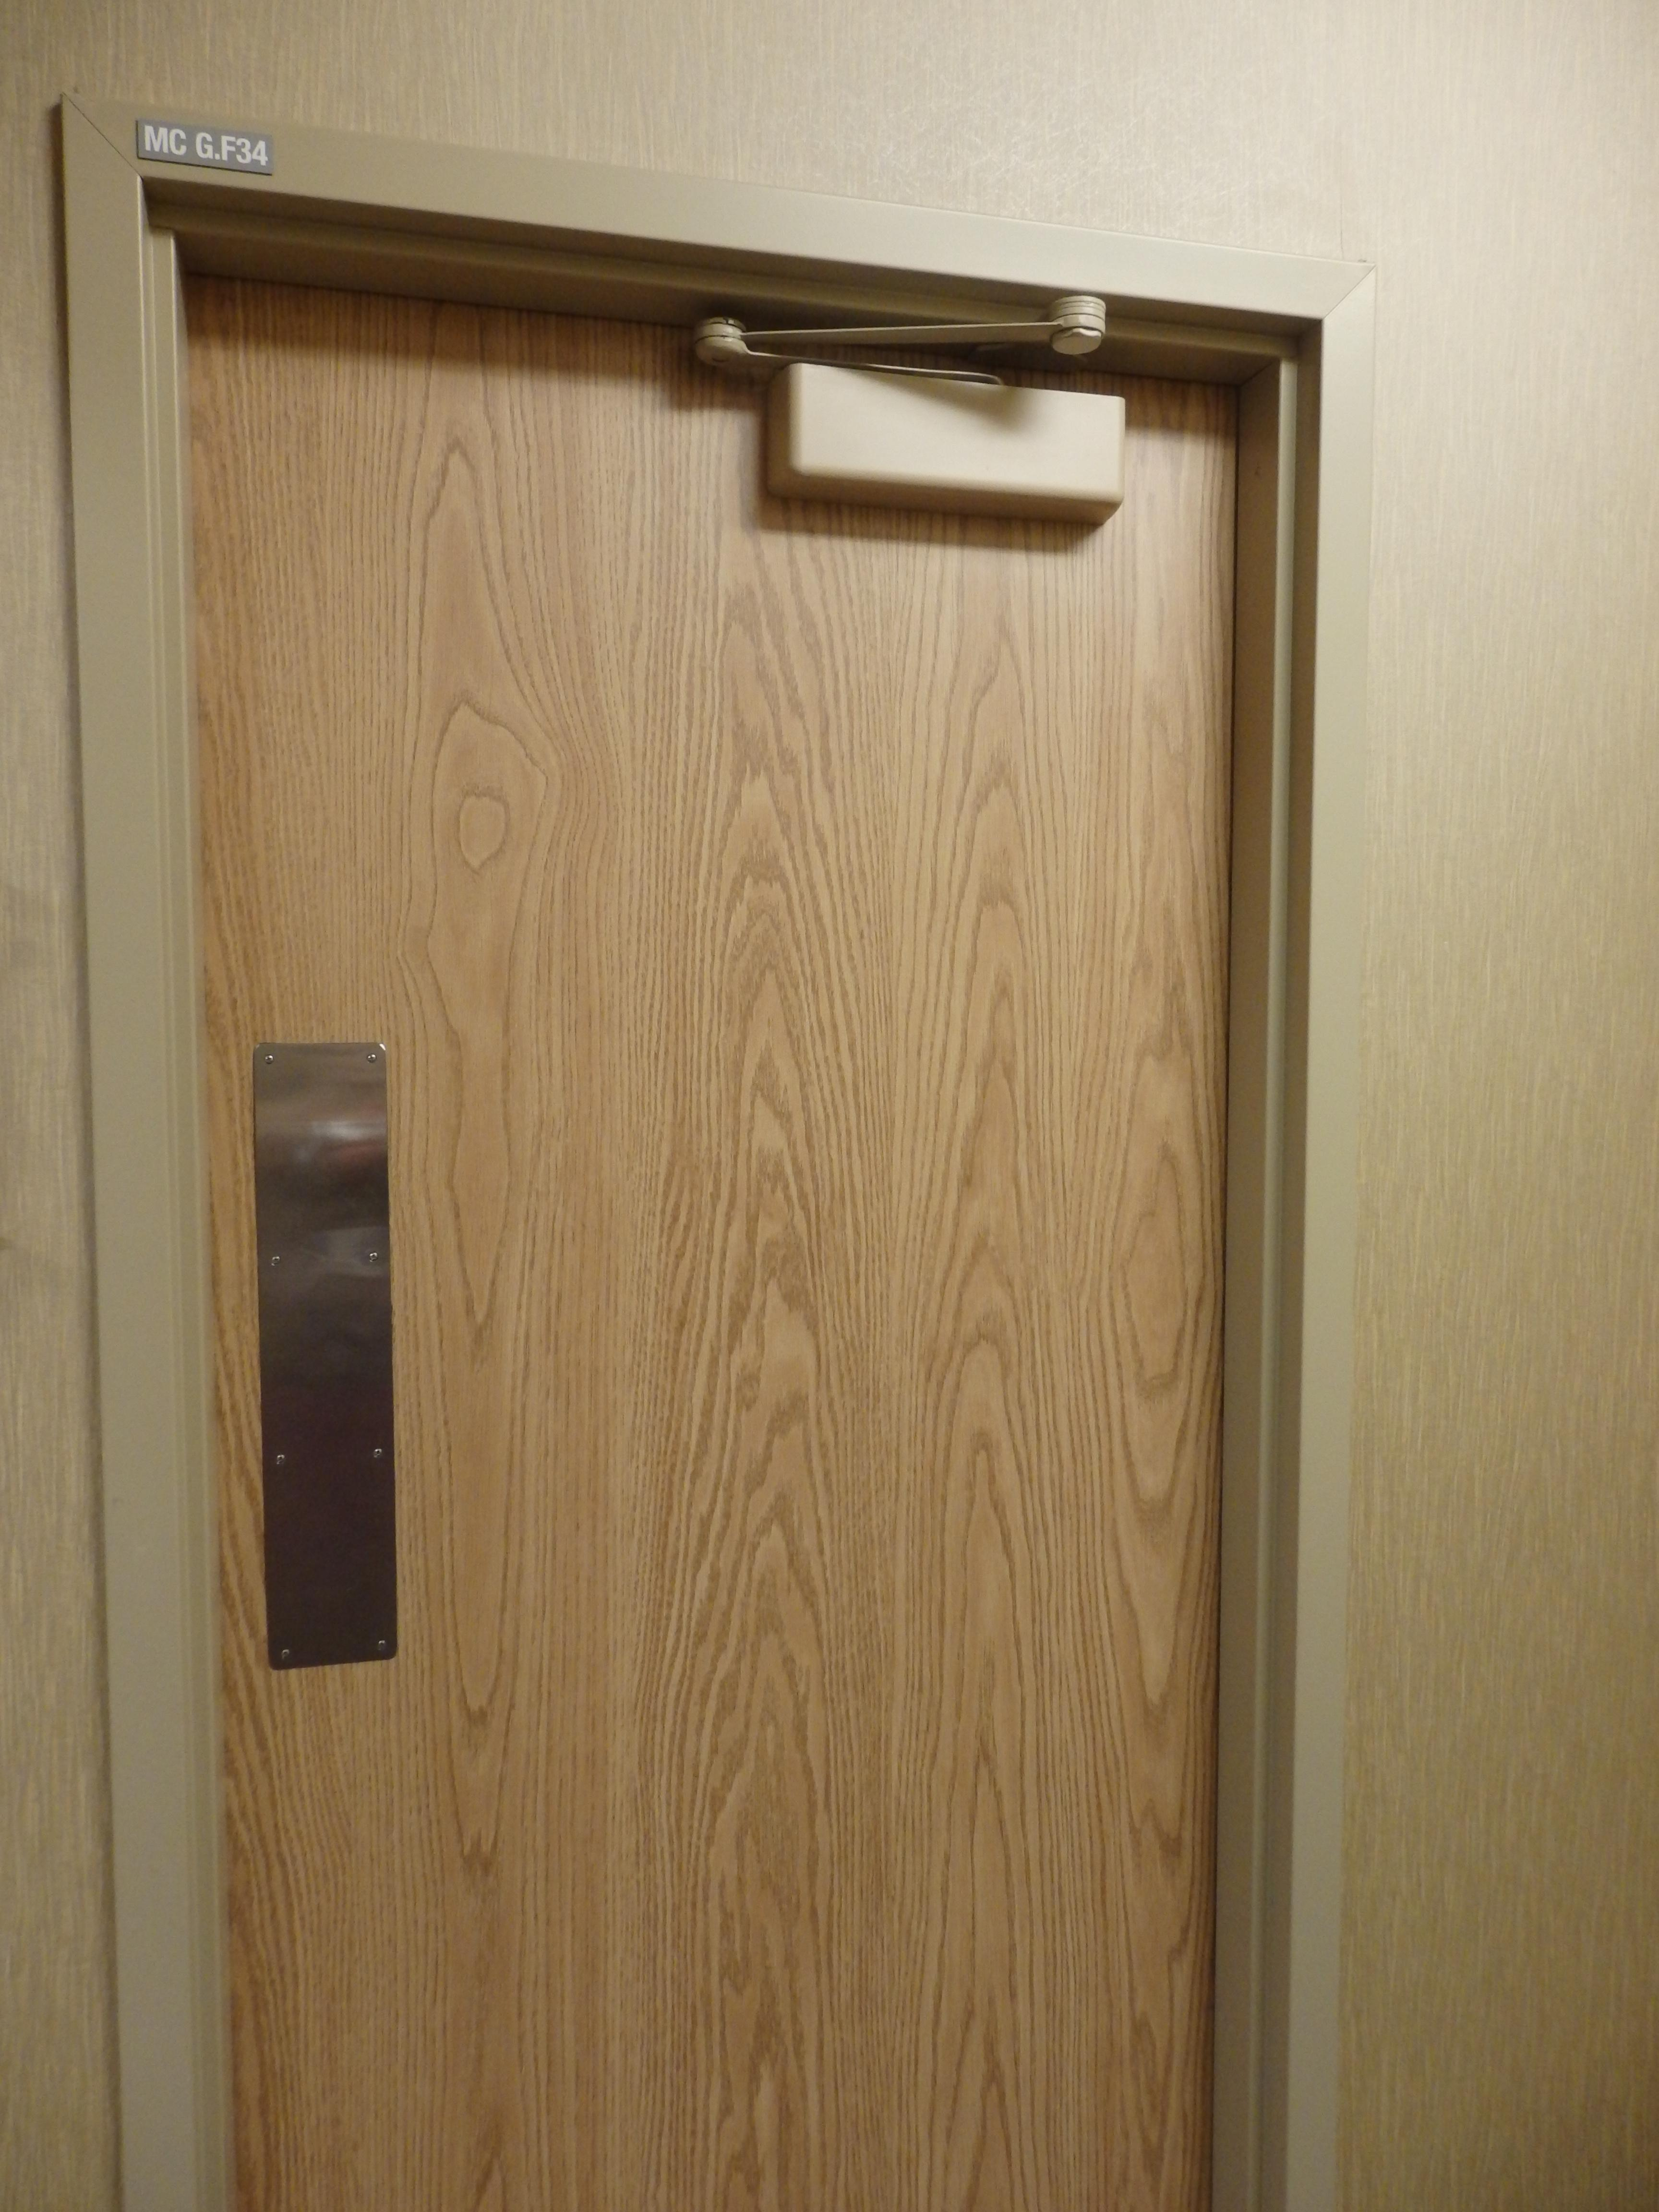door: (59, 91, 1377, 2203)
